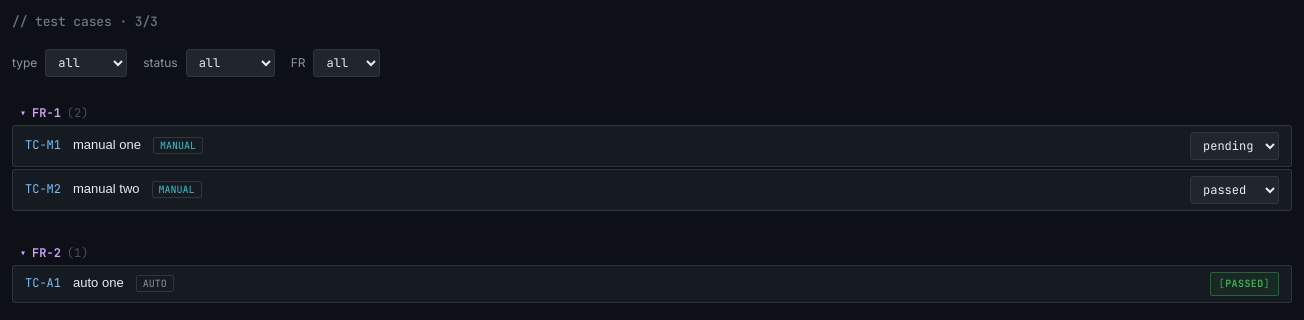
Test: FR-020 — test cases grouping + filter › TC-020h: the manual type filter narrows the set with the correct count
This screenshot has width=1304, height=320.
Check: the number of elements with test id "tc-row" is 3, box [12, 125, 1292, 167]; [12, 169, 1292, 211]; [12, 265, 1292, 303]
Select "manual" in the dropdown with test id "filter-type" at (86, 63), box [45, 49, 127, 77]
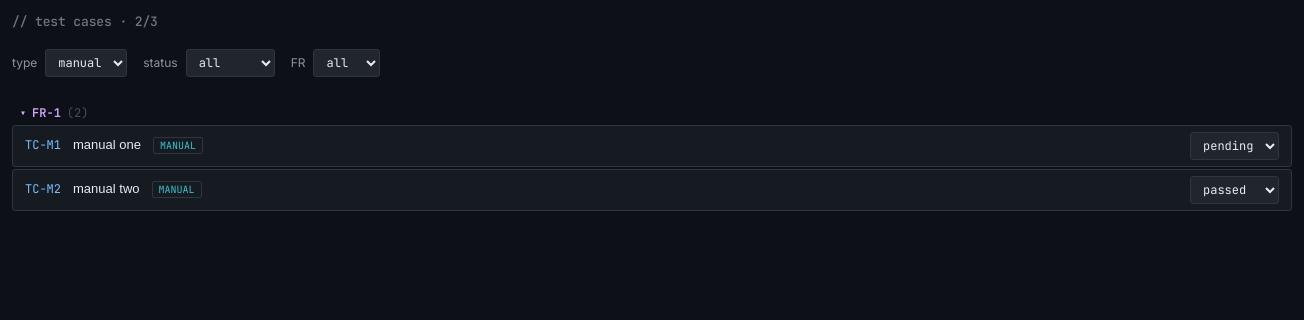
Check: the number of elements with test id "tc-row" is 2, box [12, 125, 1292, 167]; [12, 169, 1292, 211]
